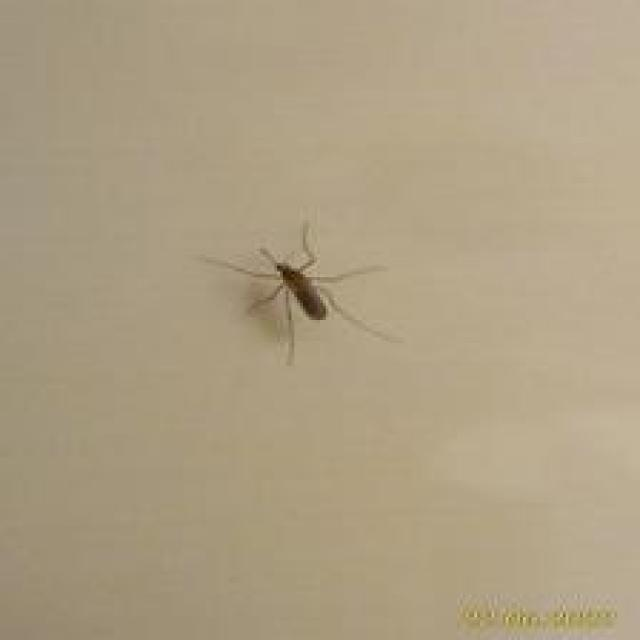Culex: (202, 219, 404, 367)
